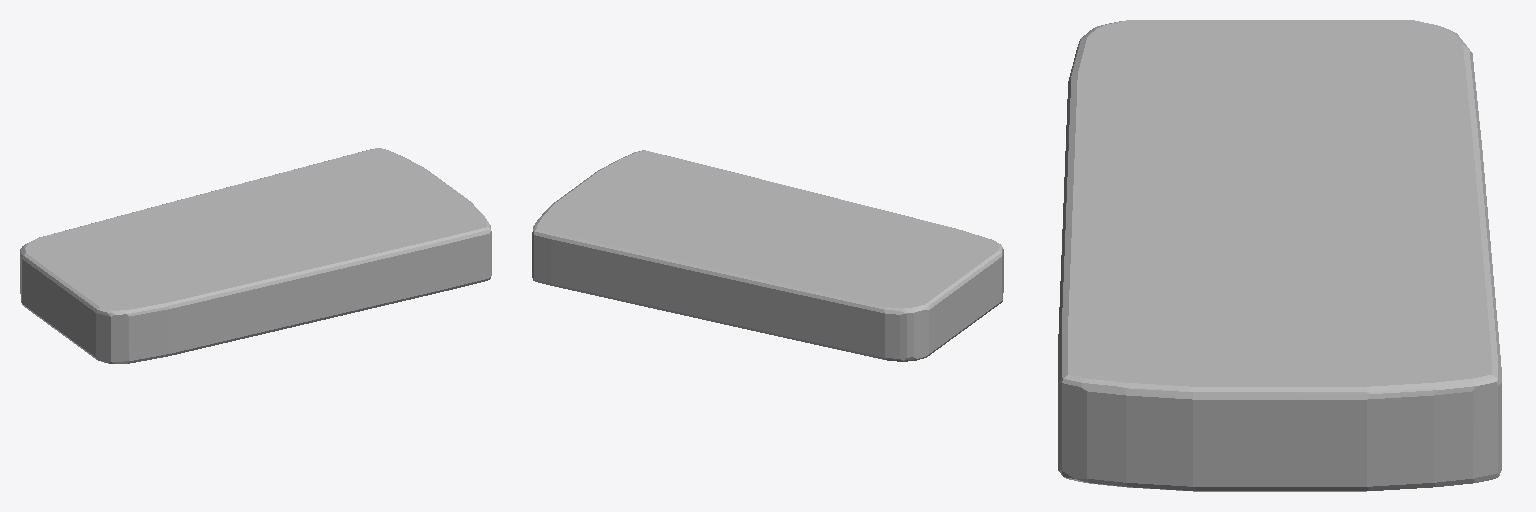
URDF robot description (root):
<robot name="root">
  <link name="link_coacd_convex_piece_0">
    <inertial>
      <origin xyz="0 0 0" rpy="0 0 0"/>
      <inertia ixx="9.23E-02" ixy="2.23E-05" ixz="8.70E-04" iyy="1.12E-01" iyz="-6.40E-06" izz="2.26E-02"/>
    </inertial>
    <visual>
      <origin xyz="0 0 0" rpy="0 0 0"/>
      <geometry>
        <mesh filename="coacd_convex_piece_0.obj" scale="1.0000E+00 1.0000E+00 1.0000E+00"/>
      </geometry>
      <material name="">
        <color rgba="7.50E-01 7.50E-01 7.50E-01 1"/>
      </material>
    </visual>
    <collision>
      <origin xyz="0 0 0" rpy="0 0 0"/>
      <geometry>
        <mesh filename="coacd_convex_piece_0.obj" scale="1.0000E+00 1.0000E+00 1.0000E+00"/>
      </geometry>
    </collision>
  </link>
</robot>

--- Facts derived from the render (not from the file) ---
3 views of the same robot in one strip: view 1: azimuth 30°, elevation 25°; view 2: azimuth 150°, elevation 25°; view 3: azimuth 270°, elevation 25° (orthographic).
Robot: root — 1 links, 0 joints (none); root link link_coacd_convex_piece_0; default pose: every joint at zero.
Visible links, largest first — view 1: link_coacd_convex_piece_0; view 2: link_coacd_convex_piece_0; view 3: link_coacd_convex_piece_0.
Link boxes in pixels (x1=…): link_coacd_convex_piece_0: x1=20, y1=148, x2=491, y2=363; link_coacd_convex_piece_0: x1=532, y1=150, x2=1003, y2=361; link_coacd_convex_piece_0: x1=1058, y1=20, x2=1501, y2=491.
Size in the robot's own frame: 1.84 by 0.921 by 0.2403 metres.
Meshes: 1 distinct files referenced, 1 mesh visuals loaded (1 OBJ).
